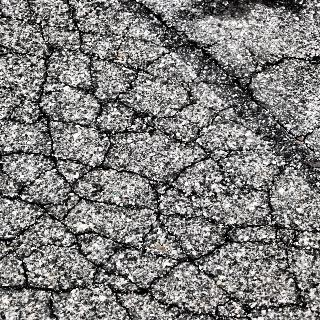alligator-crack: (0, 142, 320, 320), (0, 4, 320, 142)
crack: (132, 0, 320, 160)
